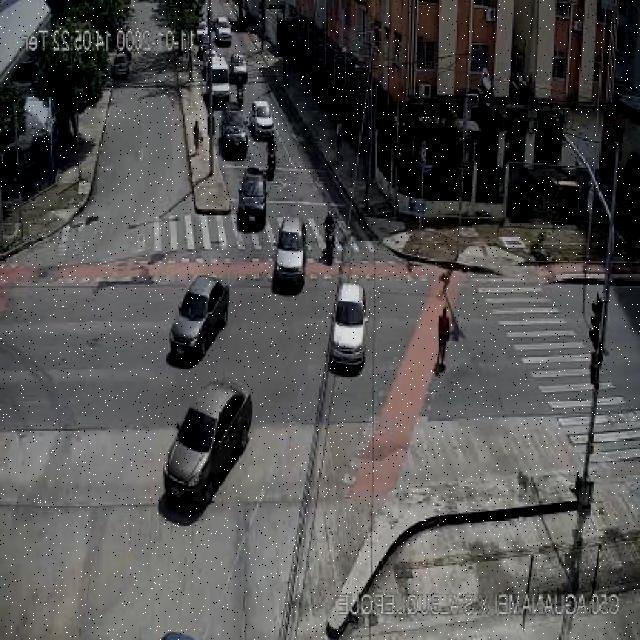Car: (160, 385, 259, 513), (160, 275, 229, 385), (328, 279, 372, 372), (272, 212, 308, 296), (234, 166, 271, 228), (203, 54, 234, 110), (218, 109, 250, 157), (252, 94, 277, 136), (233, 50, 250, 83), (216, 16, 232, 44)
